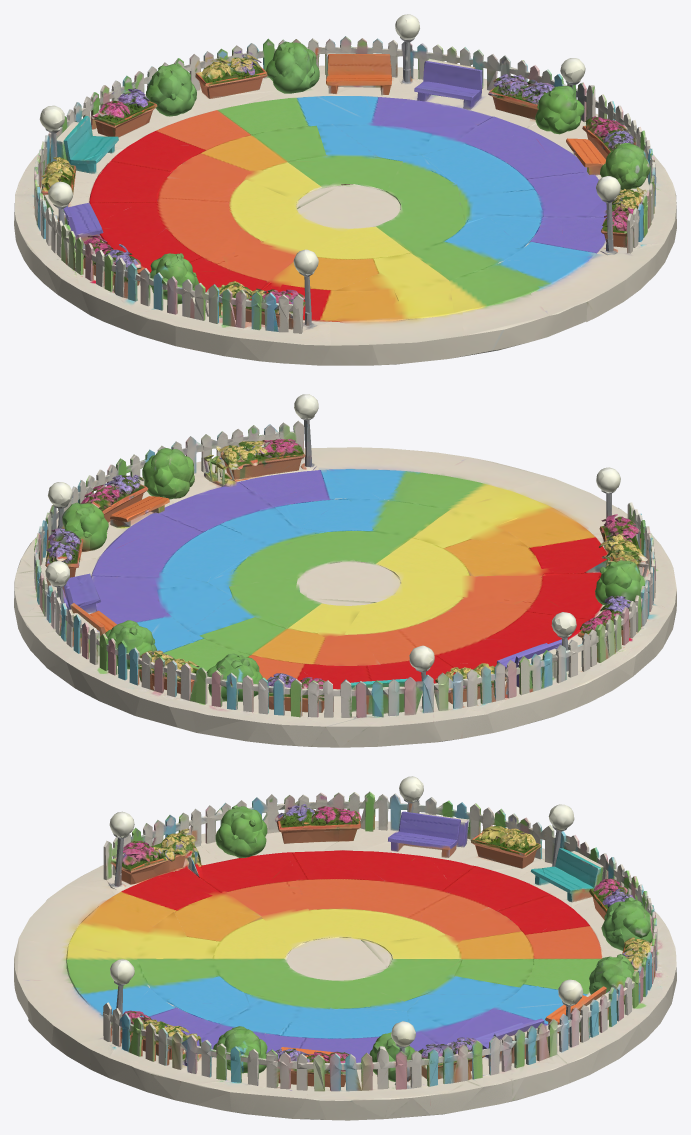
File: rainbow-playground-v1.glb
3 renders of one model, top to bottom at view 1: azimuth 30°, elevation 25°; view 2: azimuth 150°, elevation 25°; view 3: azimuth 270°, elevation 25°, orthographic.
Size of the model in its own units: 1.9 by 0.2991 by 1.9.
1 material, 1 textured.
